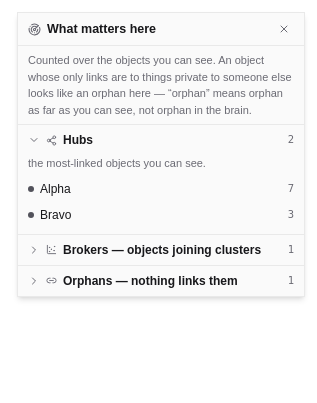
Test: InsightPanelView › keeps brokers a separate, differently-labelled list
Step 1. Click the button "Brokers — objects joining clusters 1" → (161, 250), box [18,234,304,264]
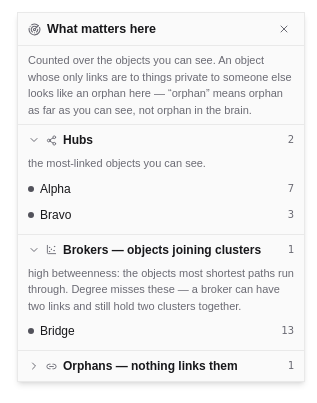
Check: the button "Bridge 13" is shown, box [18,318,304,344]
Check: the text "betweenness" is shown, box [28,266,294,312]
